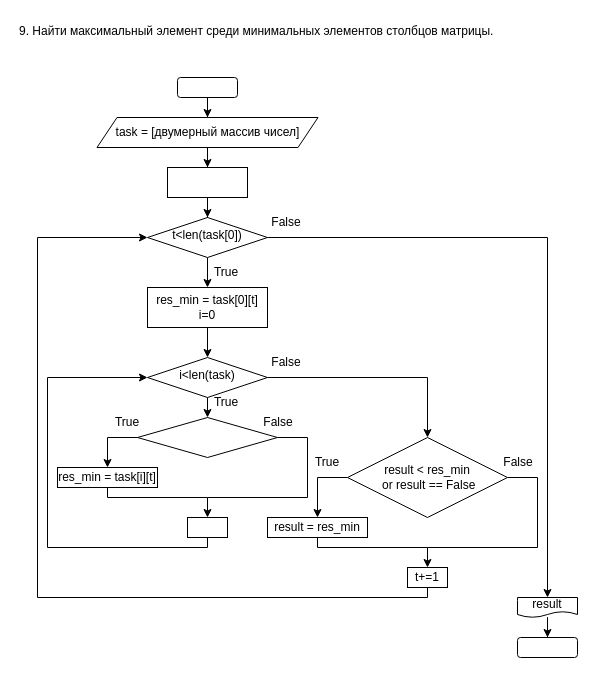
Some shapes in this 595 by 675 pixel diagram are drawn without their labels. Here are the shapes that lost their labels. From the top down, the centre of each, then its label:
At (x=207, y=87): "Начало".
At (x=207, y=182): "result = False t=0".
At (x=207, y=437): "res_min > task[i][t]".
At (x=207, y=527): "i+=1".
At (x=547, y=647): "Конец".
